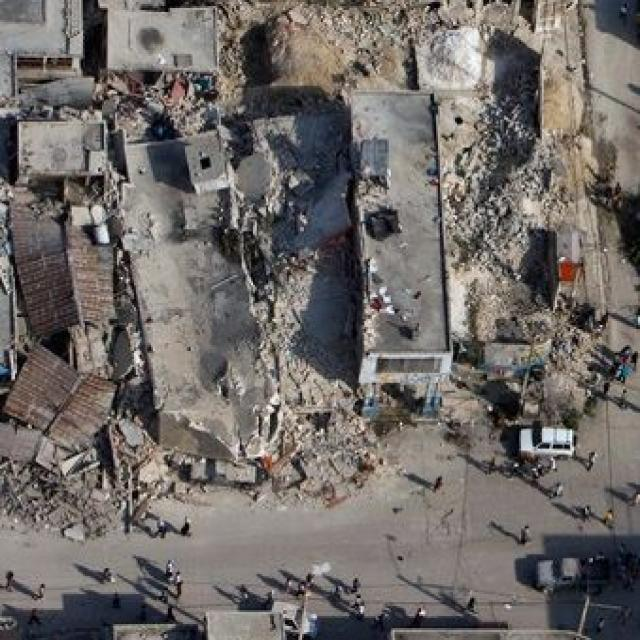collapsed_building: (122, 128, 260, 474), (236, 110, 353, 492), (432, 92, 555, 398), (8, 192, 126, 502), (213, 2, 572, 90)
